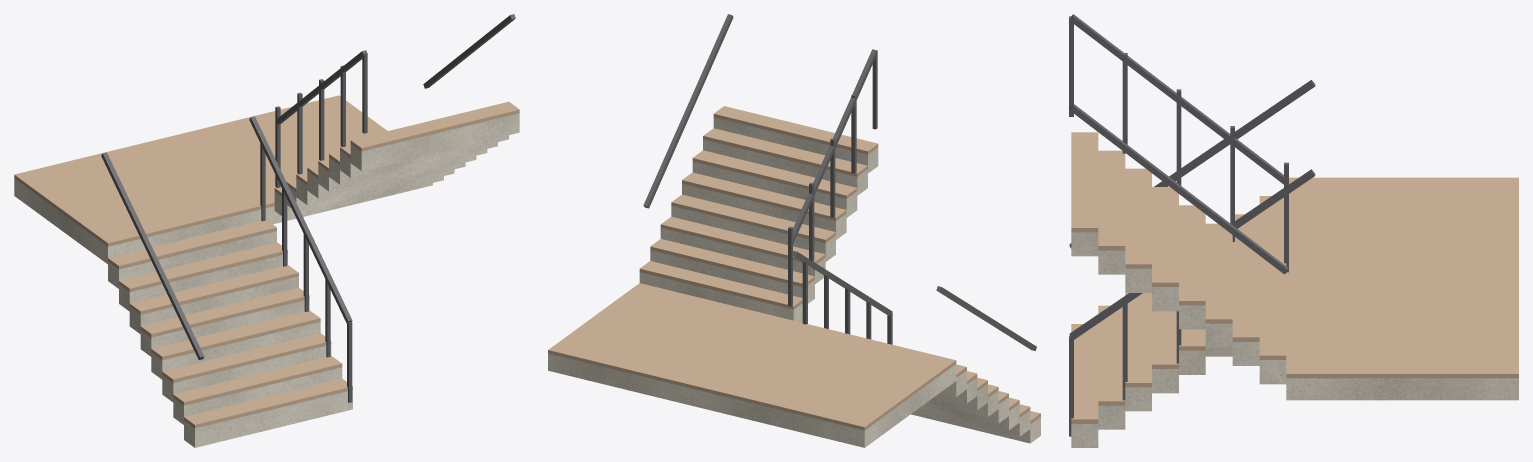
File: stairs_u_3m_192_192.glb
3 renders of one model, left to right at view 1: azimuth 30°, elevation 25°; view 2: azimuth 150°, elevation 25°; view 3: azimuth 270°, elevation 25°, orthographic. The views are drawn at different scales.
Parts seen in each view (by area): view 1: stairs_u_3m_192_192_floor, stairs_u_3m_192_192_plaster, stairs_u_3m_192_192_iron; view 2: stairs_u_3m_192_192_floor, stairs_u_3m_192_192_plaster, stairs_u_3m_192_192_iron; view 3: stairs_u_3m_192_192_floor, stairs_u_3m_192_192_plaster, stairs_u_3m_192_192_iron.
Part boxes in pixels (x1,y1,x2,y2): stairs_u_3m_192_192_floor: (14,95,519,428); stairs_u_3m_192_192_plaster: (14,113,519,447); stairs_u_3m_192_192_iron: (101,14,515,402); stairs_u_3m_192_192_floor: (548,106,1040,430); stairs_u_3m_192_192_plaster: (548,117,1040,447); stairs_u_3m_192_192_iron: (643,14,1036,350); stairs_u_3m_192_192_floor: (1071,132,1518,423); stairs_u_3m_192_192_plaster: (1071,232,1518,447); stairs_u_3m_192_192_iron: (1069,14,1315,436).
Size of the model in its own units: 3.84 by 4.01 by 3.72.
3 materials, 1 textured.
